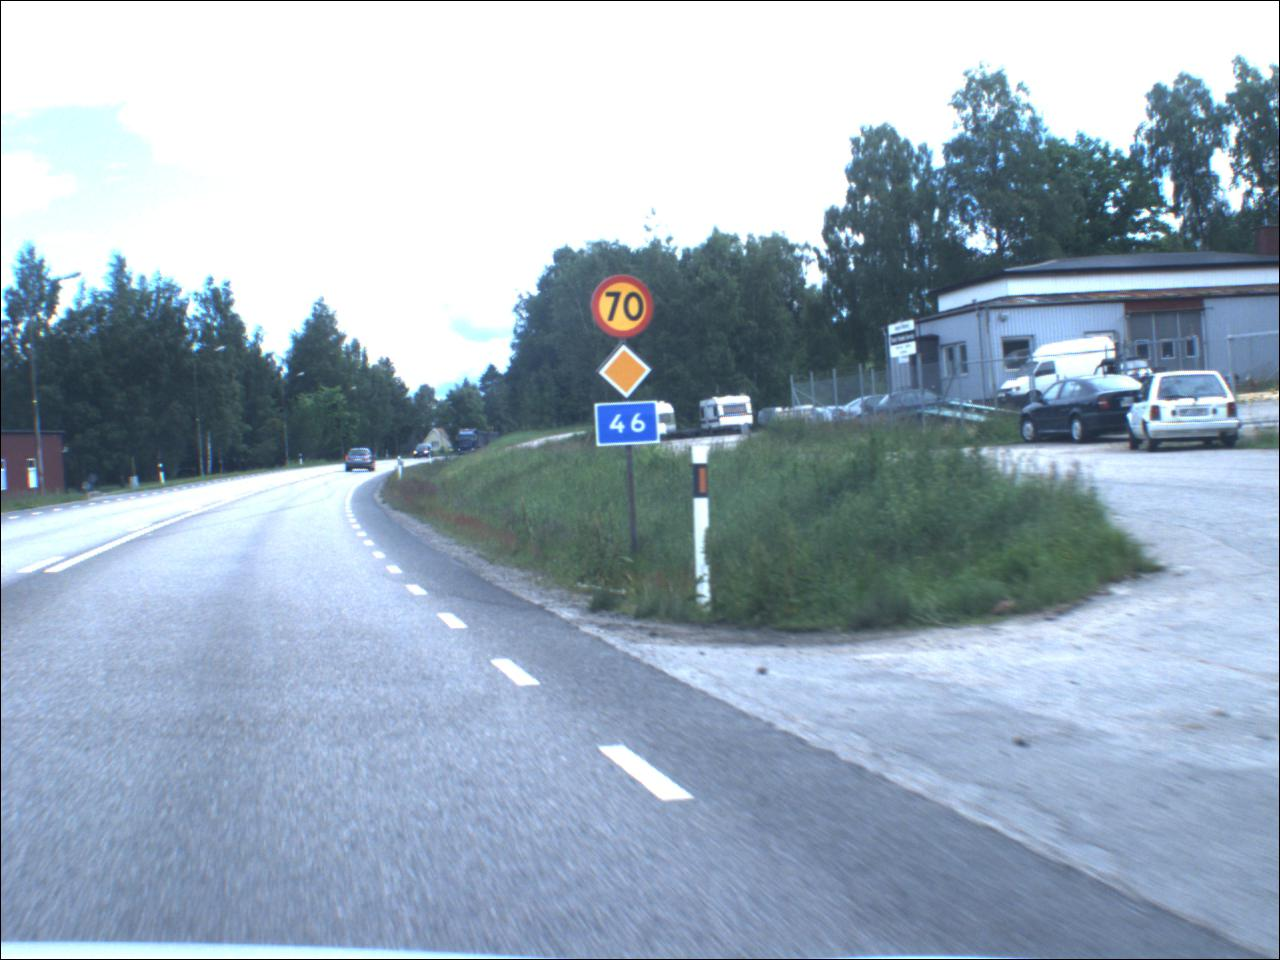70_SIGN: (591, 273, 656, 340)
PRIORITY_ROAD: (597, 343, 659, 403)
